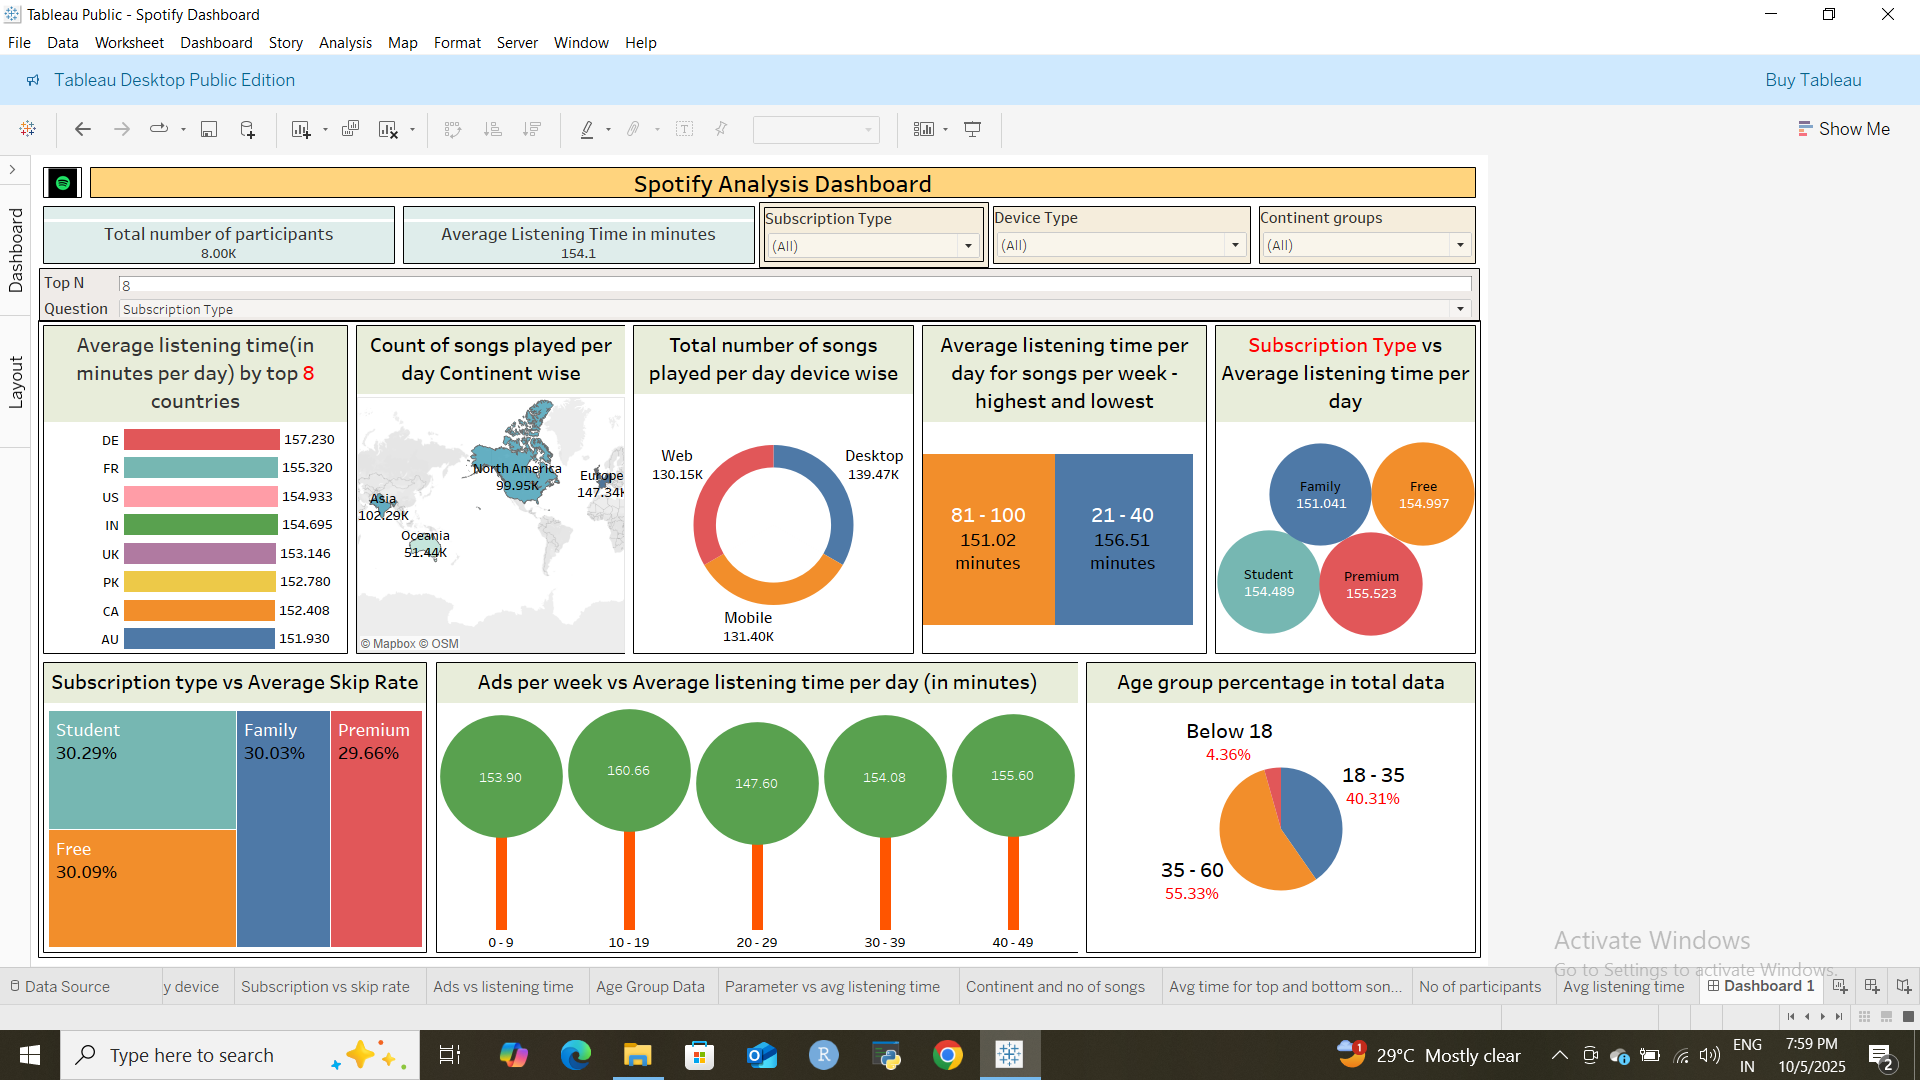

What the dashboard file says about the page in this screenshot:
{"tool":"tableau","page":{"name":"Spotify Dashboard","canvas":[1000,1000],"units":"permille","ordinal":0},"visuals":[{"type":"image","param":"Image/9f5edc36-eb4d-414a-8447-10514f2bc224-cover.png","box":[4.2,9.9,32.5,48.1]},{"type":"text","box":[36.8,9.9,959,48.1]},{"type":"worksheet","title":"No of participants","mark":"Automatic","box":[4.2,57.9,247.8,81.4]},{"type":"worksheet","title":"Avg listening time","mark":"Automatic","box":[252.1,57.9,247.9,81.4]},{"type":"filter","title":"Songs played by device","param":"[federated.1gn5vaq1ly7l3y17p7z3v0p7hh3u].[none:device_type:nk]","box":[657.9,57.9,183.1,81.4]},{"type":"filter","title":"Continent and no of songs","param":"[federated.1gn5vaq1ly7l3y17p7z3v0p7hh3u].[Conuntry grouped to Continents]","box":[841,57.9,154.8,81.4]},{"type":"filter","title":"Subscription vs skip rate","param":"[federated.1gn5vaq1ly7l3y17p7z3v0p7hh3u].[none:subscription_type:nk]","box":[500.5,59.1,156.9,77.7]},{"type":"parameter","param":"[Parameters].[Parameter 1]","box":[4.8,140.6,990.5,32.1]},{"type":"parameter","param":"[Parameters].[Parameter 2]","box":[4.8,172.6,990.5,32.1]},{"type":"worksheet","title":"Avg list time parameter","mark":"Automatic","rows":["country"],"cols":["listening_time"],"box":[4.8,203.5,214.8,416.8]},{"type":"worksheet","title":"Continent and no of songs","mark":"Automatic","box":[219.7,203.5,190.8,416.8]},{"type":"worksheet","title":"Songs played by device","mark":"Pie","rows":["Calculation_955326126356881410","Calculation_955326126356897796"],"box":[410.5,203.5,198.6,416.8]},{"type":"worksheet","title":"Avg time for top and bottom songs","mark":"Automatic","cols":["listening_time"],"box":[609.1,203.5,201.3,416.8]},{"type":"worksheet","title":"Parameter vs avg listening time","mark":"Circle","box":[810.4,203.5,184.8,416.8]},{"type":"worksheet","title":"Subscription vs skip rate","mark":"Automatic","box":[4.8,620.2,269.8,369.9]},{"type":"worksheet","title":"Ads vs listening time","mark":"Automatic","rows":["listening_time","listening_time"],"cols":["Calculation_955326126362046473"],"box":[274.6,620.2,447.2,369.9]},{"type":"worksheet","title":"Age Group Data","mark":"Pie","box":[721.8,620.2,273.4,369.9]}]}

Visuals, with their boxes on the dashboard's canvas, which has no fixed pixel size, in thousandths of its width and height (x1, y1, x2, y2). These are canvas units, not pixel positions in the 1920x1080 screenshot, which may show the page scaled, cropped or inside an application window:
image: [4,10,37,58]
text: [37,10,996,58]
"No of participants" worksheet: [4,58,252,139]
"Avg listening time" worksheet: [252,58,500,139]
"Songs played by device" filter: [658,58,841,139]
"Continent and no of songs" filter: [841,58,996,139]
"Subscription vs skip rate" filter: [500,59,657,137]
parameter: [5,141,995,173]
parameter: [5,173,995,205]
"Avg list time parameter" worksheet: [5,204,220,620]
"Continent and no of songs" worksheet: [220,204,410,620]
"Songs played by device" worksheet (Pie marks): [410,204,609,620]
"Avg time for top and bottom songs" worksheet: [609,204,810,620]
"Parameter vs avg listening time" worksheet (Circle marks): [810,204,995,620]
"Subscription vs skip rate" worksheet: [5,620,275,990]
"Ads vs listening time" worksheet: [275,620,722,990]
"Age Group Data" worksheet (Pie marks): [722,620,995,990]
